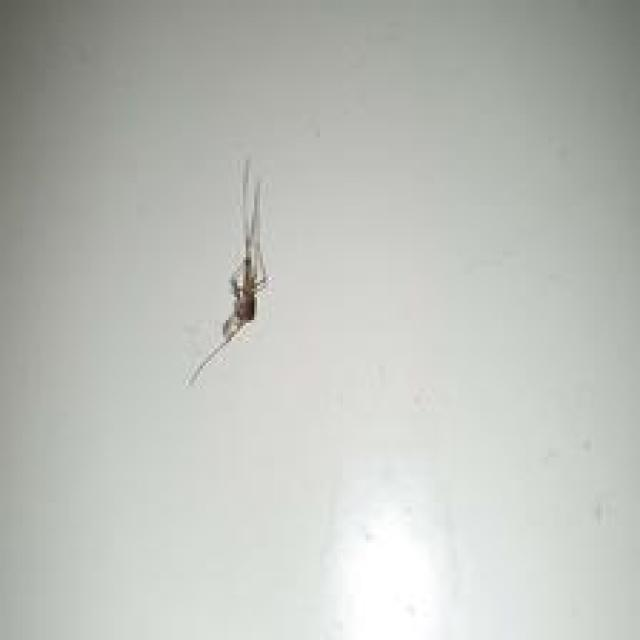Culex: (184, 157, 270, 386)
